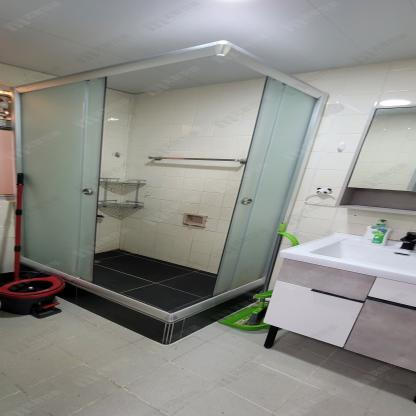Toilet Sink: (278, 231, 416, 285)
Water Cubicle: (14, 39, 330, 345)
